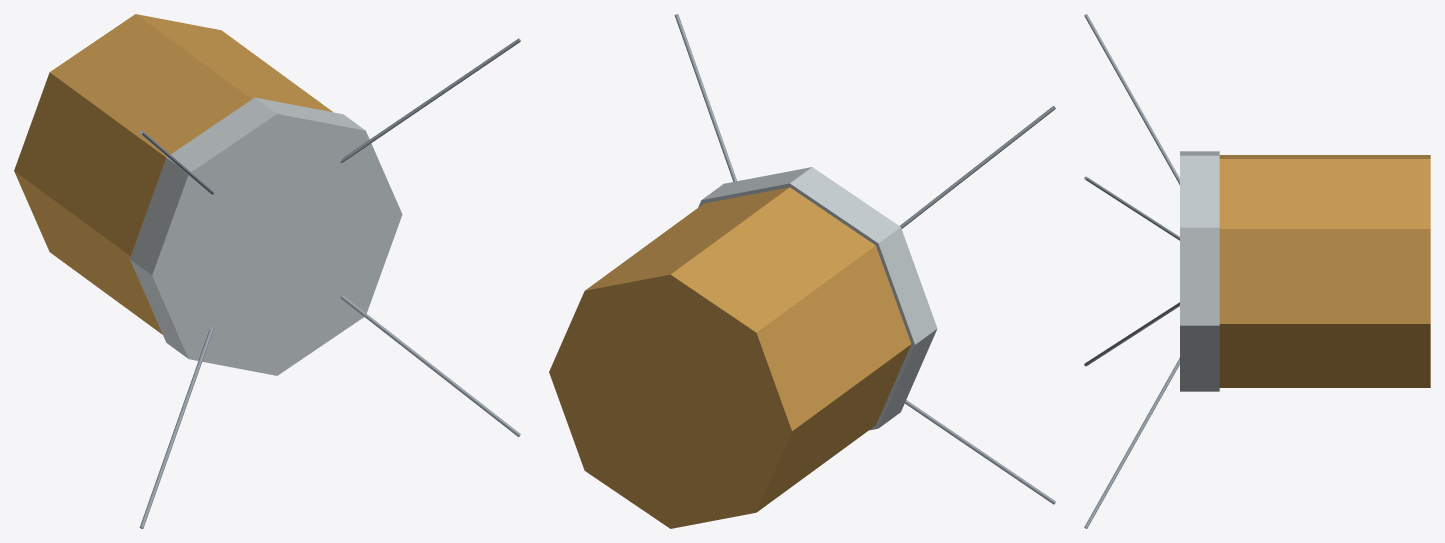
File: ref-ors-3430.glb
3 renders of one model, left to right at view 1: azimuth 30°, elevation 25°; view 2: azimuth 150°, elevation 25°; view 3: azimuth 270°, elevation 25°, orthographic. The views are drawn at different scales.
Visible parts, largest first — view 1: Equipment flange, Service barrel, Whip antenna (×3); view 2: Service barrel, Equipment flange, Whip antenna (×3); view 3: Service barrel, Equipment flange, Whip antenna (×4).
Part boxes in pixels (x1,y1,x2,y2): Equipment flange: [130, 97, 402, 375]; Service barrel: [14, 14, 332, 334]; Whip antenna (×3): [139, 38, 520, 528]; Service barrel: [549, 187, 911, 528]; Equipment flange: [698, 167, 937, 430]; Whip antenna (×3): [674, 14, 1055, 504]; Service barrel: [1219, 155, 1430, 387]; Equipment flange: [1180, 151, 1219, 391]; Whip antenna (×4): [1084, 14, 1179, 528].
Size of the model in its own units: 0.4698 by 0.4698 by 0.4189.
